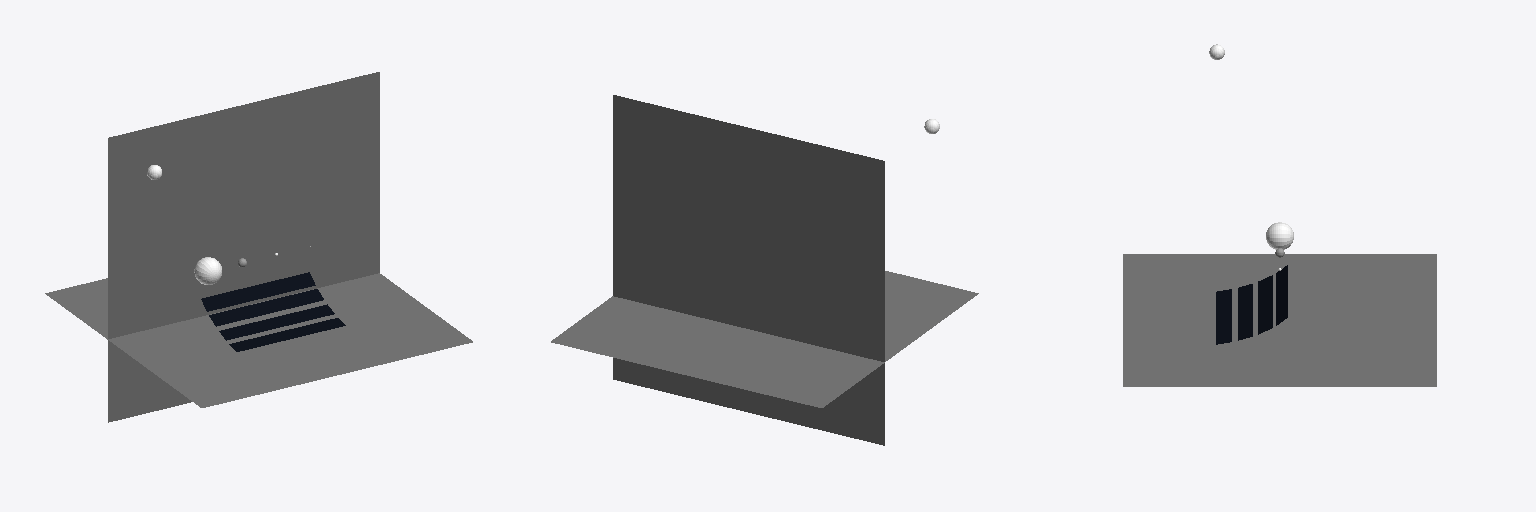
File: VeachMIS.obj
The picture shows the model from 3 angles: view 1: azimuth 30°, elevation 25°; view 2: azimuth 150°, elevation 25°; view 3: azimuth 270°, elevation 25°; orthographic projection.
Parts seen in each view (by area): view 1: wall, floor1, glossyplane4, glossyplane3, glossyplane2, glossyplane1, SphereLight4; view 2: wall, floor1; view 3: floor1, glossyplane1, glossyplane3, glossyplane2, glossyplane4, SphereLight4.
Boxes of the visible parts, box(x1,y1,x2,y2) form: wall: box(108, 72, 379, 422); floor1: box(45, 273, 472, 407); glossyplane4: box(201, 272, 315, 311); glossyplane3: box(209, 289, 323, 326); glossyplane2: box(219, 304, 334, 340); glossyplane1: box(229, 318, 345, 351); SphereLight4: box(194, 257, 221, 284); wall: box(613, 95, 884, 445); floor1: box(551, 271, 978, 407); floor1: box(1123, 254, 1436, 386); glossyplane1: box(1216, 289, 1231, 344); glossyplane3: box(1258, 275, 1272, 334); glossyplane2: box(1238, 284, 1252, 340); glossyplane4: box(1276, 265, 1287, 325); SphereLight4: box(1266, 222, 1293, 249).
Size of the model in its own units: 20.5 by 20.5 by 20.